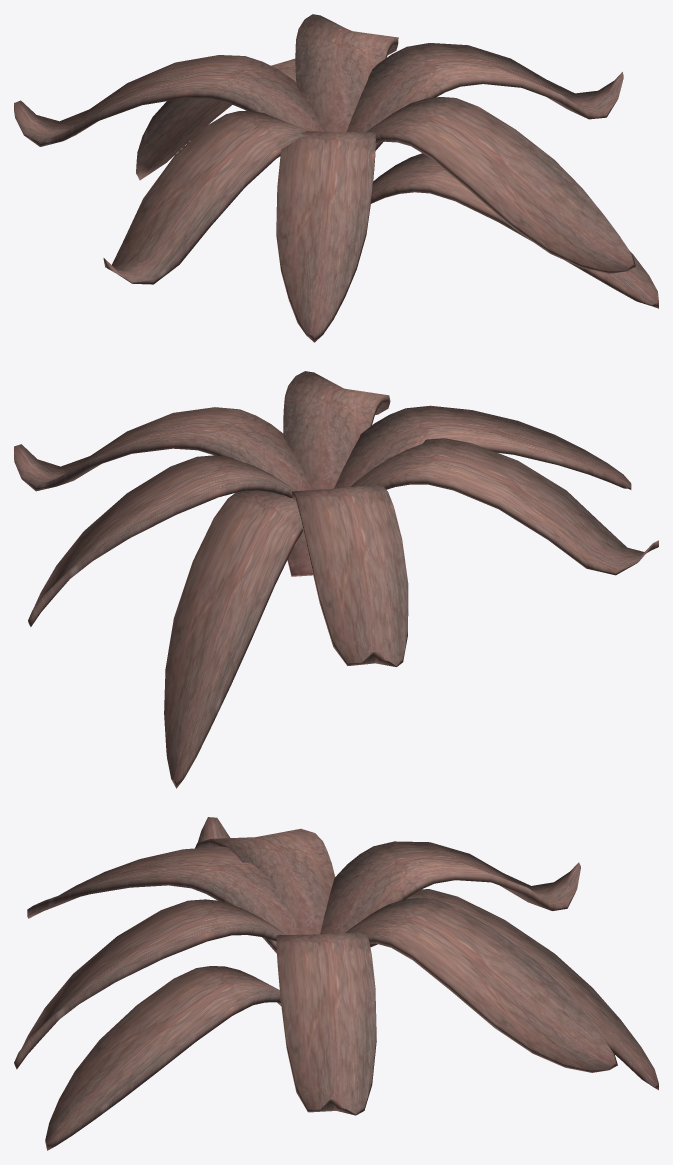
Rendered from calyx8_sb1_b.dae.
3 renders of one model, top to bottom at view 1: azimuth 30°, elevation 25°; view 2: azimuth 150°, elevation 25°; view 3: azimuth 270°, elevation 25°, orthographic.
Visible parts, largest first — view 1: calyx8, calyx6_001, calyx7_003, calyx7_002, calyx7, calyx8_001, calyx6, calyx9; view 2: calyx9, calyx7_002, calyx7_003, calyx7, calyx8_001, calyx6_001, calyx8, calyx6; view 3: calyx8_001, calyx7, calyx6, calyx7_002, calyx8, calyx6_001, calyx7_003, calyx9.
Boxes of the visible parts, <box> form: calyx8: <box>366,97,635,273</box>; calyx6_001: <box>276,131,375,342</box>; calyx7_003: <box>103,110,310,284</box>; calyx7_002: <box>14,55,324,146</box>; calyx7: <box>346,43,623,150</box>; calyx8_001: <box>295,14,398,131</box>; calyx6: <box>371,153,658,308</box>; calyx9: <box>136,58,296,180</box>; calyx9: <box>164,490,302,788</box>; calyx7_002: <box>292,484,408,666</box>; calyx7_003: <box>351,438,658,575</box>; calyx7: <box>14,407,312,491</box>; calyx8_001: <box>28,455,296,626</box>; calyx6_001: <box>334,405,631,489</box>; calyx8: <box>283,371,390,489</box>; calyx6: <box>287,531,312,576</box>; calyx8_001: <box>345,898,617,1072</box>; calyx7: <box>276,932,376,1115</box>; calyx6: <box>45,966,281,1150</box>; calyx7_002: <box>320,841,580,934</box>; calyx8: <box>14,899,285,1069</box>; calyx6_001: <box>27,846,302,953</box>; calyx7_003: <box>195,817,334,934</box>; calyx9: <box>370,889,658,1090</box>.
Size of the model in its own units: 0.13 by 0.1249 by 0.0455.
Materials: 8 (8 with a texture image).
